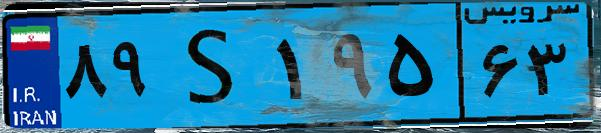1: (270, 28, 330, 110)
3: (525, 38, 570, 115)
5: (385, 28, 445, 110)
6: (475, 38, 525, 113)
8: (57, 26, 110, 100)
9: (330, 28, 385, 110), (110, 28, 158, 98)
S: (158, 12, 270, 120)
